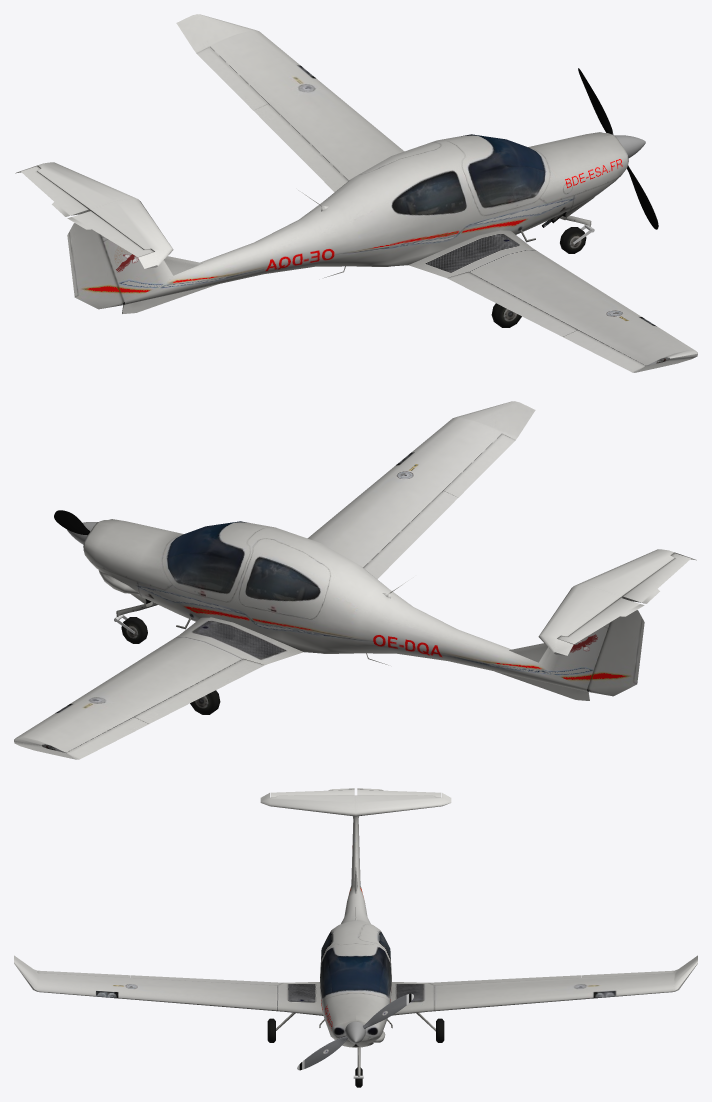
3 views of the same model, one above another, from view 1: azimuth 30°, elevation 25°; view 2: azimuth 150°, elevation 25°; view 3: azimuth 270°, elevation 25° (orthographic). The views are drawn at different scales.
Parts seen in each view (by area): view 1: Object_5, Object_3, Object_6; view 2: Object_5, Object_3; view 3: Object_5, Object_3, Object_6.
Boxes of the visible parts, left/top/right/bottom form: Object_5: left=15, top=14, right=628, bottom=327; Object_3: left=408, top=230, right=697, bottom=372; Object_6: left=578, top=68, right=658, bottom=229; Object_5: left=14, top=519, right=696, bottom=759; Object_3: left=307, top=401, right=535, bottom=579; Object_5: left=260, top=788, right=697, bottom=1087; Object_3: left=14, top=955, right=323, bottom=1015; Object_6: left=297, top=993, right=413, bottom=1070.
Size of the model in its own units: 8.67 by 2.37 by 12.16.
5 materials, 4 textured.
